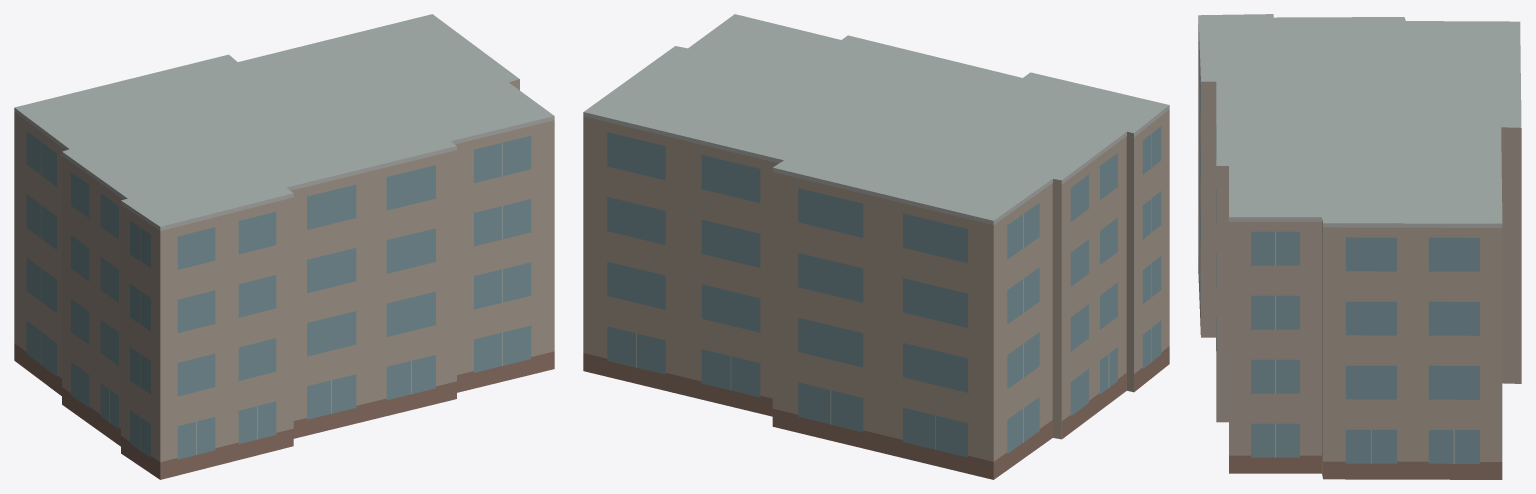
The model's file is survey-upis-33018077.glb.
The picture shows the model from 3 angles, left to right: view 1: azimuth 30°, elevation 25°; view 2: azimuth 150°, elevation 25°; view 3: azimuth 270°, elevation 25°; orthographic projection. The views are drawn at different scales.
Visible parts, largest first — view 1: survey-upis-33018077.tmp; view 2: survey-upis-33018077.tmp; view 3: survey-upis-33018077.tmp.
Part boxes in pixels (<box>): survey-upis-33018077.tmp: <box>14,14,554,479</box>; survey-upis-33018077.tmp: <box>583,14,1169,479</box>; survey-upis-33018077.tmp: <box>1198,14,1521,479</box>.
Bounding box in the file's own units: 25.97 × 14.78 × 16.9.
